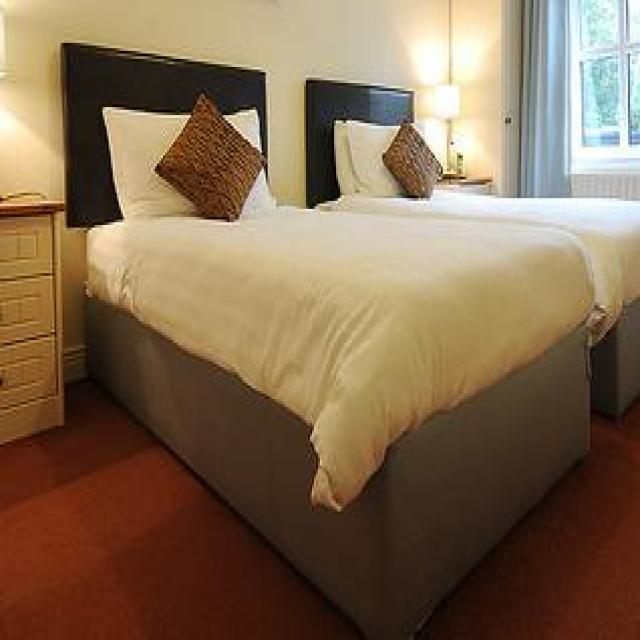bed: (58, 38, 604, 638), (304, 75, 640, 420)
